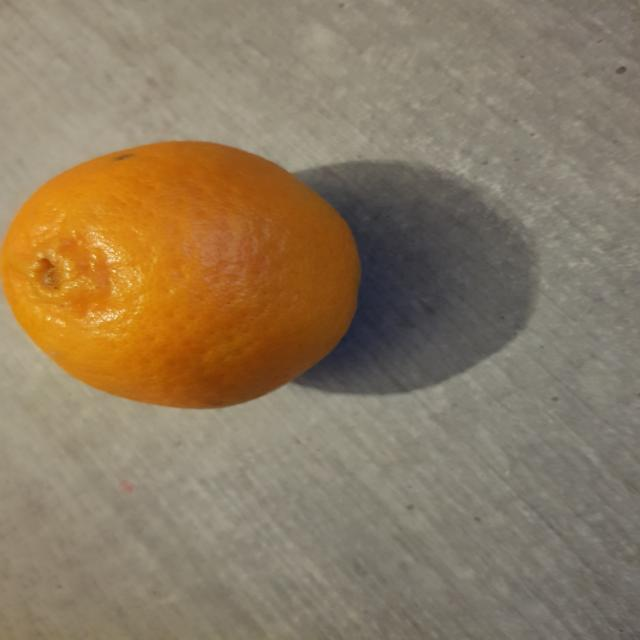Orange: (0, 141, 362, 413)
